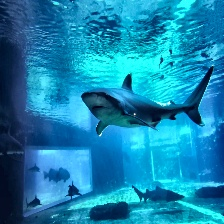shark: (81, 71, 215, 137)
